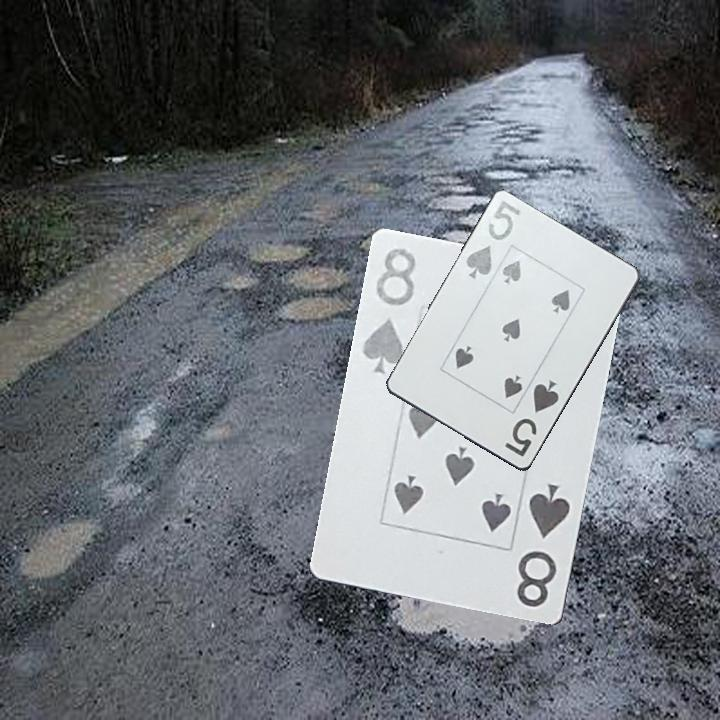5s: (462, 197, 523, 283), (501, 377, 562, 460)
8s: (513, 480, 574, 611), (359, 245, 419, 377)
